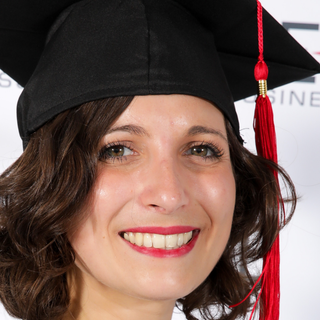eye: (177, 139, 222, 164), (97, 138, 140, 164)
